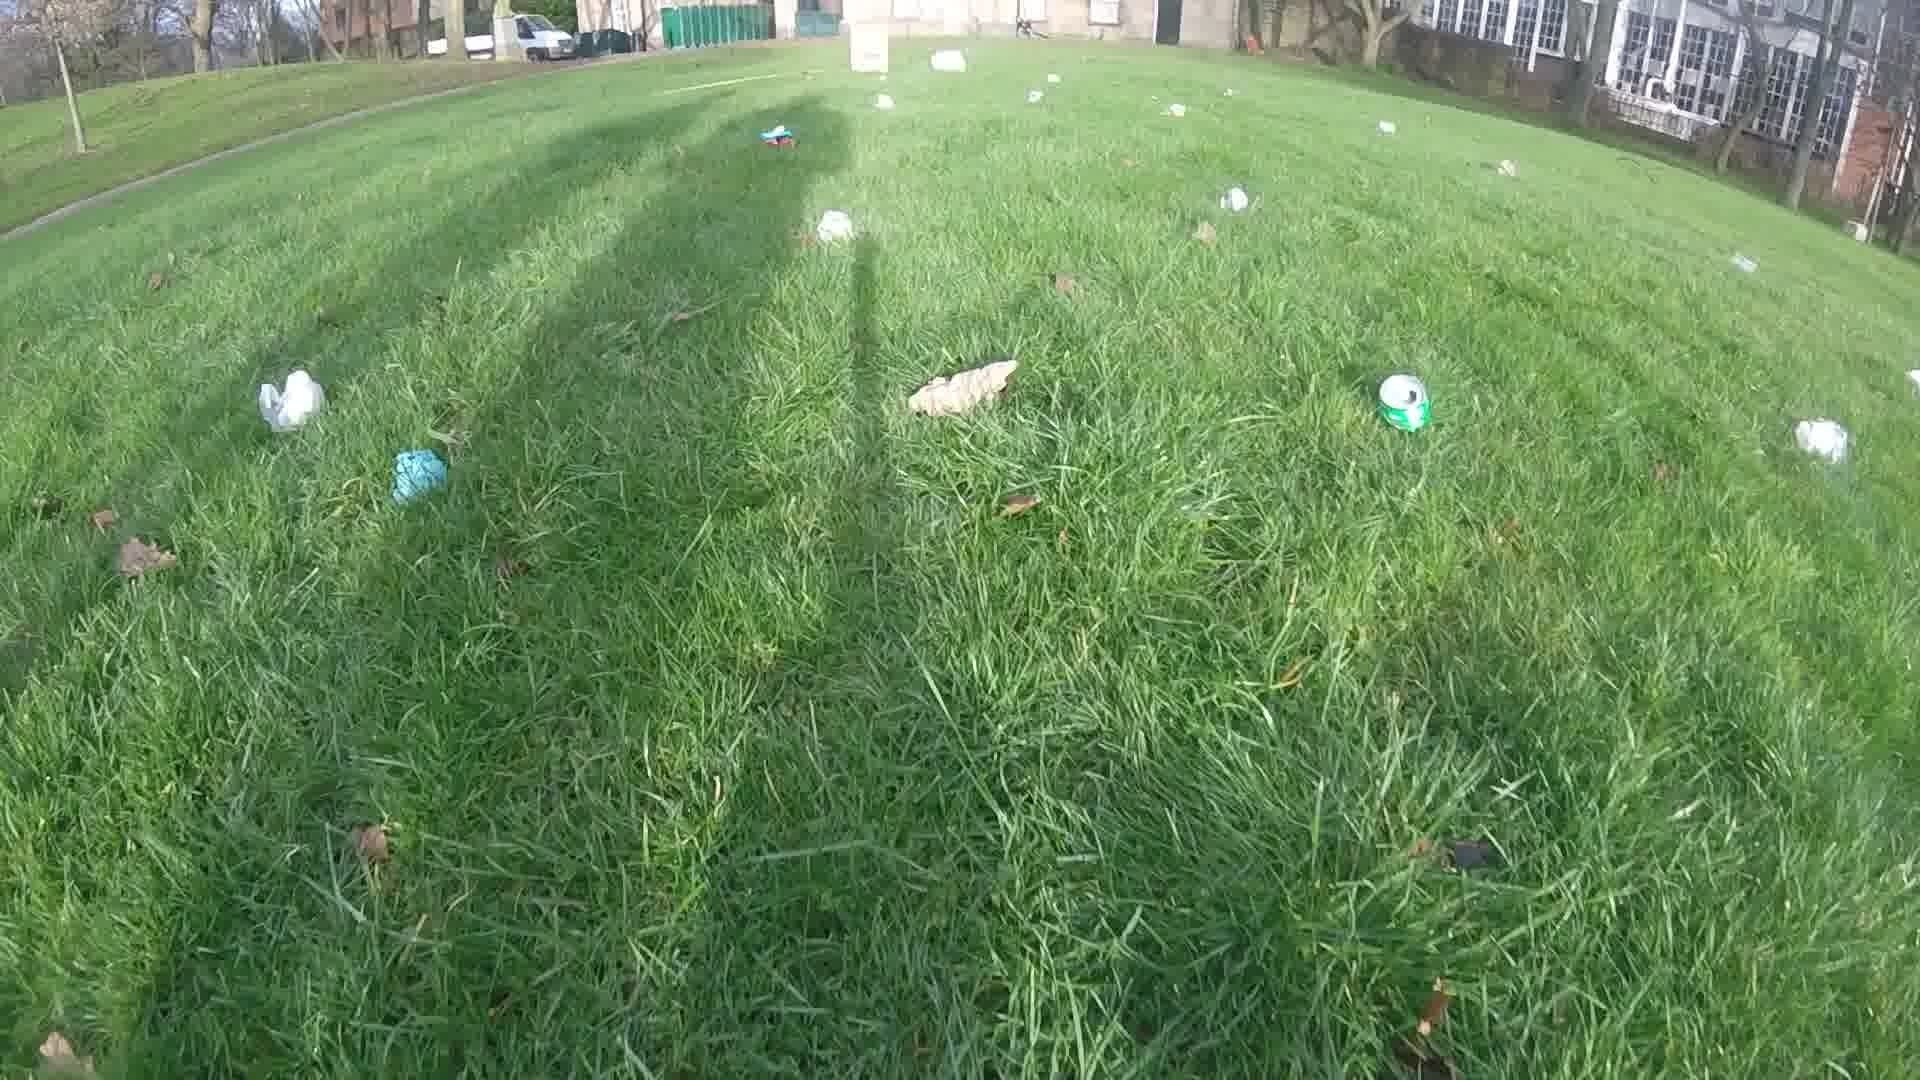litter: (913, 357, 1025, 418), (262, 377, 327, 430), (1381, 372, 1429, 436), (389, 455, 448, 502), (1793, 419, 1847, 459), (849, 22, 890, 74), (816, 211, 855, 239), (927, 50, 969, 74), (764, 128, 799, 146), (1489, 157, 1518, 175), (1731, 252, 1758, 272), (1221, 193, 1247, 208), (877, 96, 898, 112), (1377, 119, 1396, 133), (1166, 104, 1189, 116), (1905, 371, 1917, 392), (1025, 94, 1046, 103), (1042, 75, 1063, 83), (1222, 87, 1236, 98)
